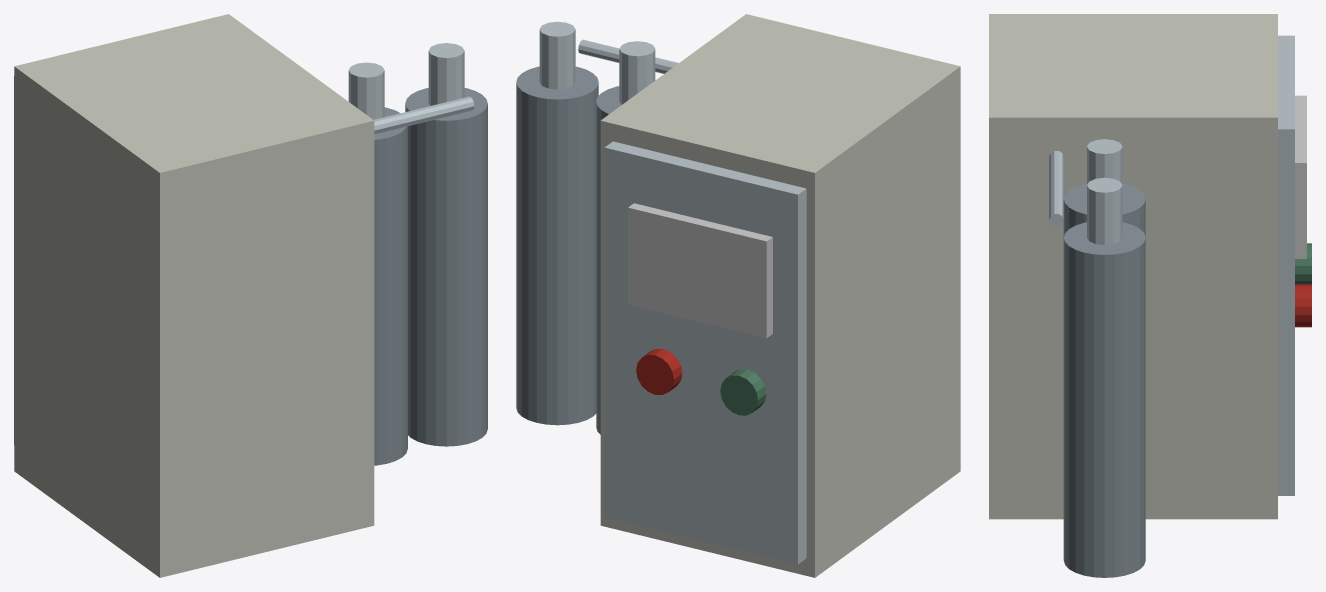
The model's file is body.obj.
The picture shows the model from 3 angles, left to right: view 1: azimuth 30°, elevation 25°; view 2: azimuth 150°, elevation 25°; view 3: azimuth 270°, elevation 25°; orthographic projection.
Size of the model in its own units: 0.905 by 0.92 by 0.67.
